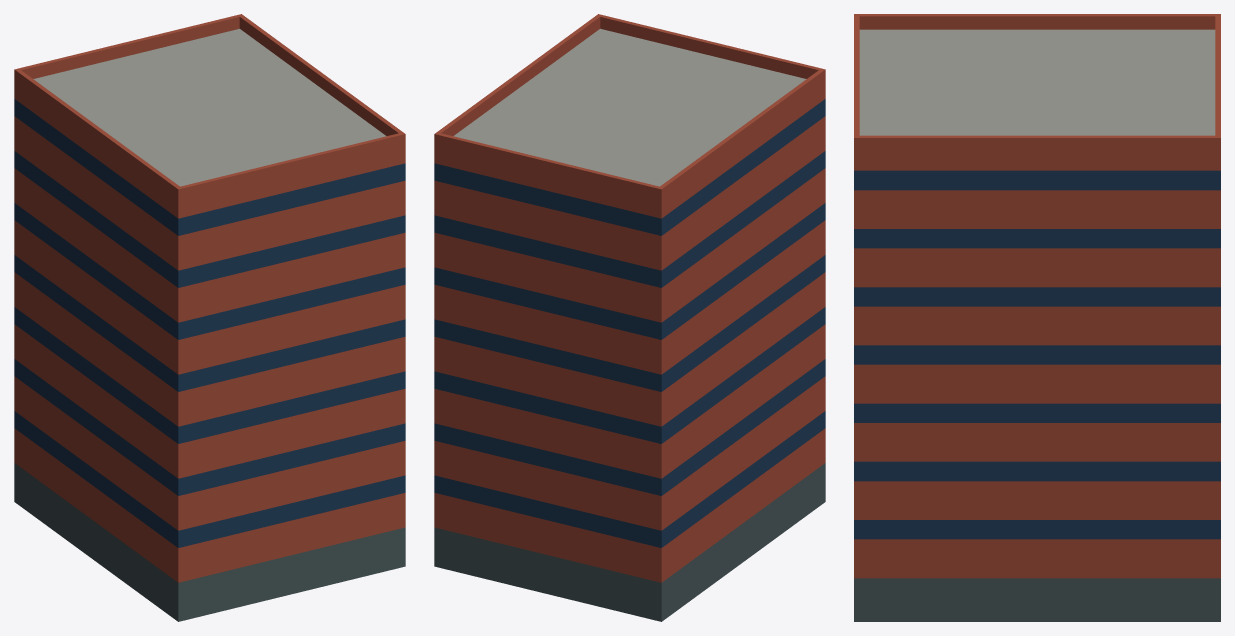
The model's file is far.fbx.
The picture shows the model from 3 angles, left to right: view 1: azimuth 30°, elevation 25°; view 2: azimuth 150°, elevation 25°; view 3: azimuth 270°, elevation 25°; orthographic projection. The views are drawn at different scales.
Visible parts, largest first — view 1: a2009/600/far; view 2: a2009/600/far; view 3: a2009/600/far.
Boxes of the visible parts, x1=… form: a2009/600/far: x1=14, y1=14, x2=405, y2=621; a2009/600/far: x1=434, y1=14, x2=825, y2=621; a2009/600/far: x1=854, y1=14, x2=1220, y2=621.
Bounding box in the file's own units: 16 × 29.1 × 20.
